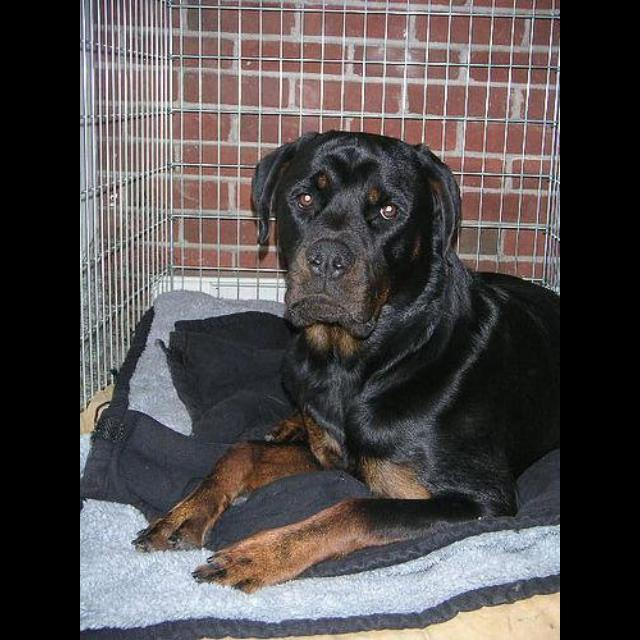rottweiler: (133, 130, 560, 595)
